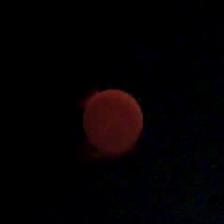infertile: (78, 84, 144, 158)
